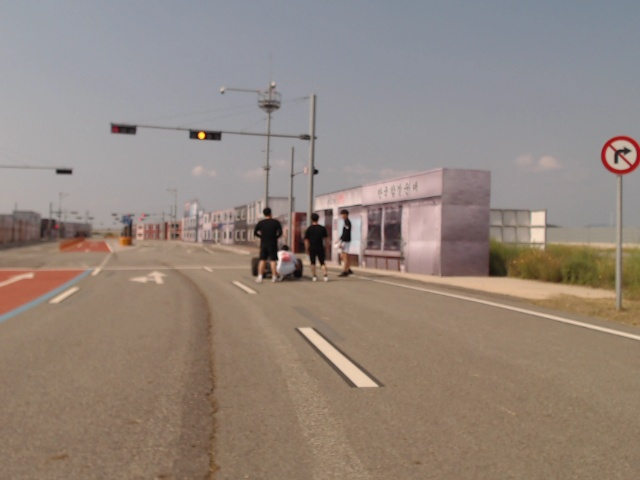orange_4: (188, 128, 222, 142)
